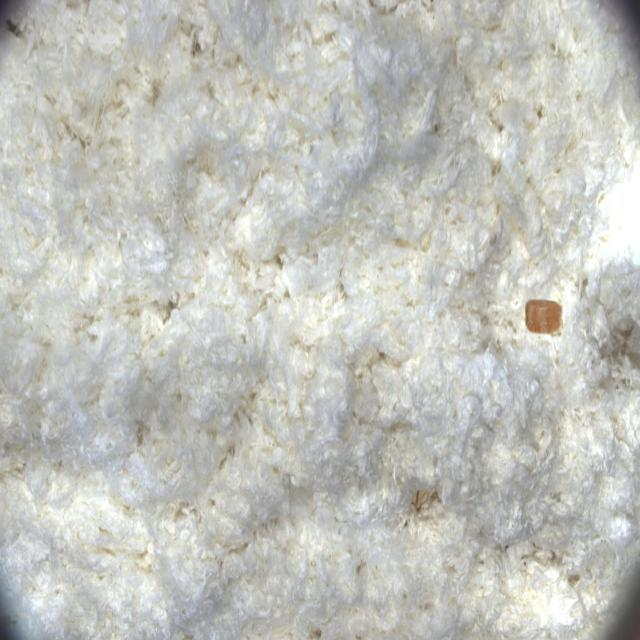dust: (497, 264, 586, 359)
